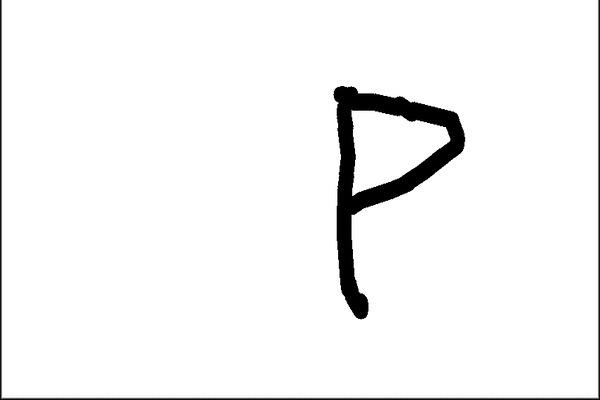P: (315, 74, 475, 332)
